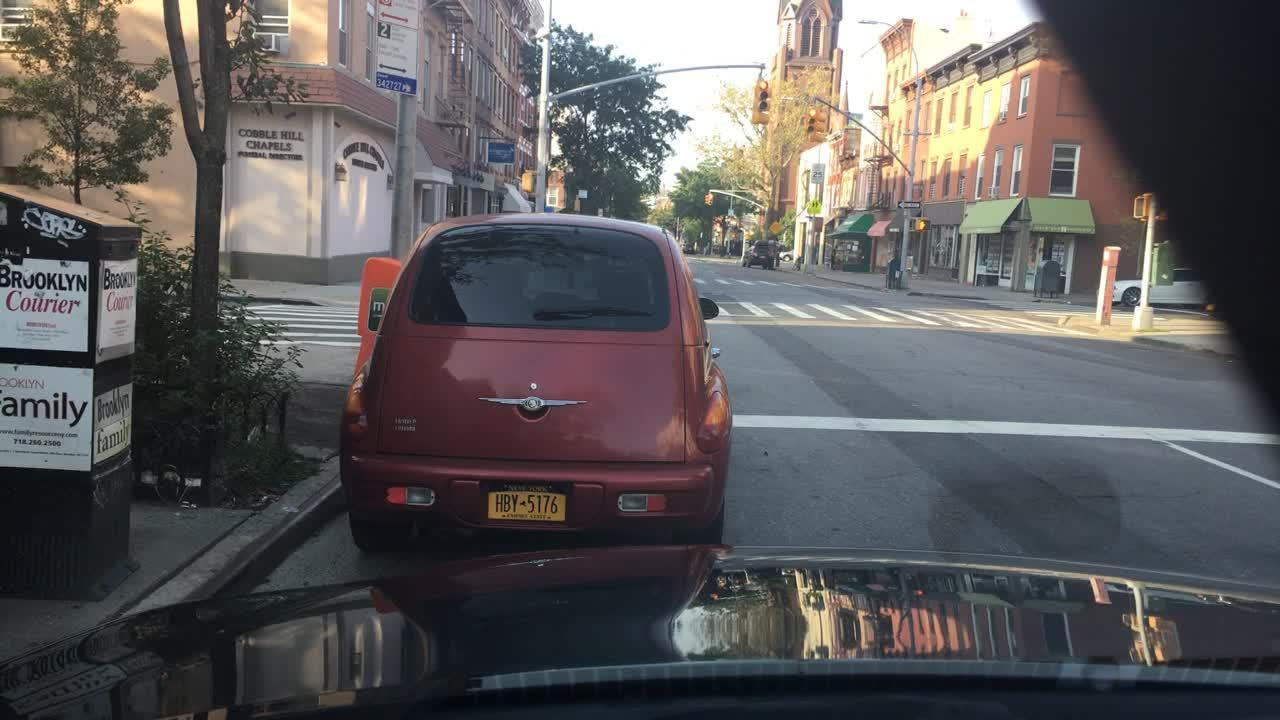Chrysler: (476, 391, 592, 413)
